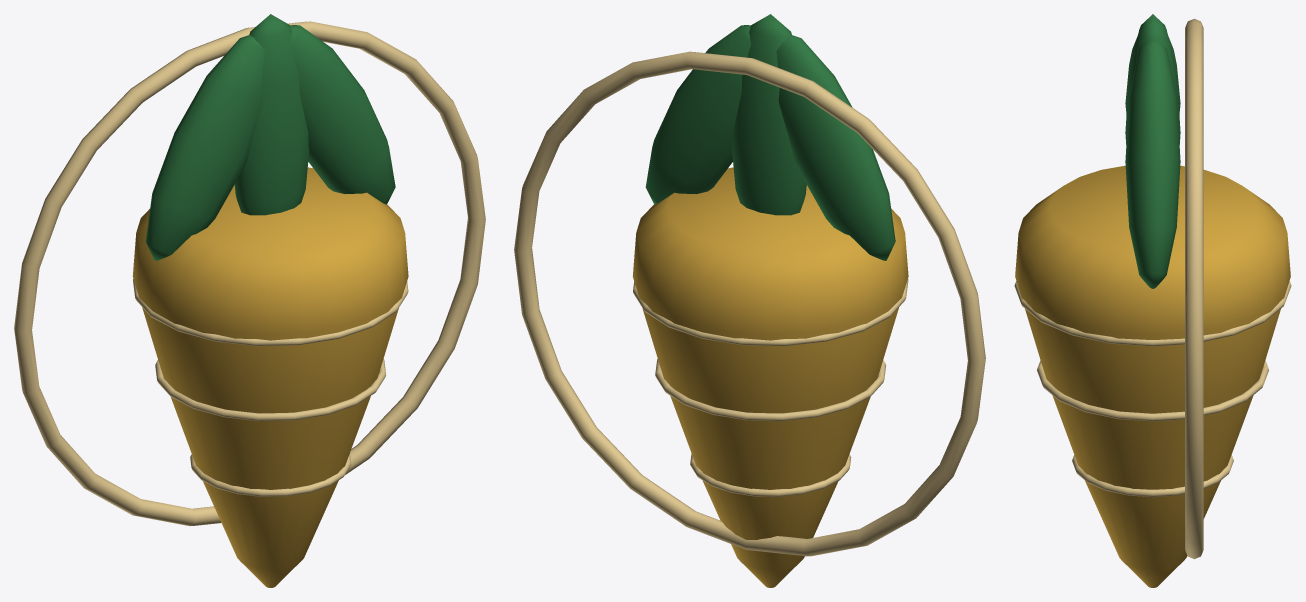
The model's file is item-golden-carrot.glb.
3 renders of one model, left to right at view 1: azimuth 30°, elevation 25°; view 2: azimuth 150°, elevation 25°; view 3: azimuth 270°, elevation 25°, orthographic.
Visible parts, largest first — view 1: Item_golden-carrot_VertexPalette; view 2: Item_golden-carrot_VertexPalette; view 3: Item_golden-carrot_VertexPalette.
Boxes of the visible parts, x1,y1,x2,y2 form: Item_golden-carrot_VertexPalette: (14, 14, 485, 587); Item_golden-carrot_VertexPalette: (514, 14, 985, 587); Item_golden-carrot_VertexPalette: (1014, 14, 1291, 587).
Size of the model in its own units: 1.57 by 1.83 by 0.804.
